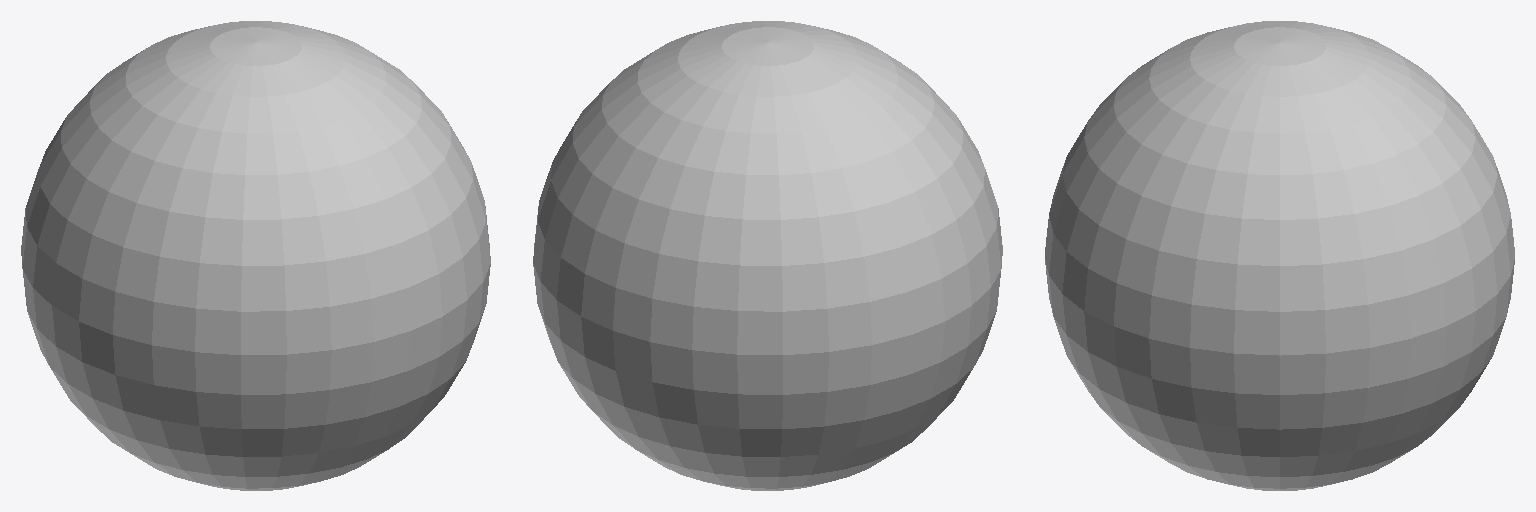
File: earth.obj
3 renders of one model, left to right at view 1: azimuth 30°, elevation 25°; view 2: azimuth 150°, elevation 25°; view 3: azimuth 270°, elevation 25°, orthographic.
Visible parts, largest first — view 1: Сфера; view 2: Сфера; view 3: Сфера.
Boxes of the visible parts, box(x1,y1,x2,y2) form: Сфера: box(21, 21, 490, 490); Сфера: box(533, 21, 1002, 490); Сфера: box(1045, 21, 1514, 490).
Size of the model in its own units: 0.5382 by 0.5382 by 0.5382.